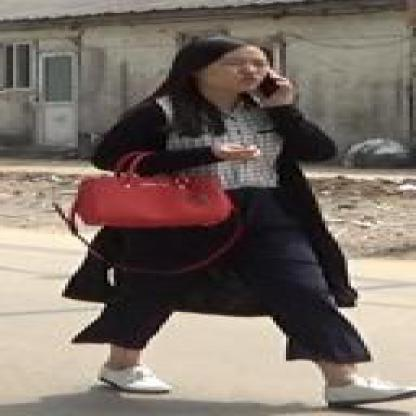adult: (66, 30, 416, 408)
